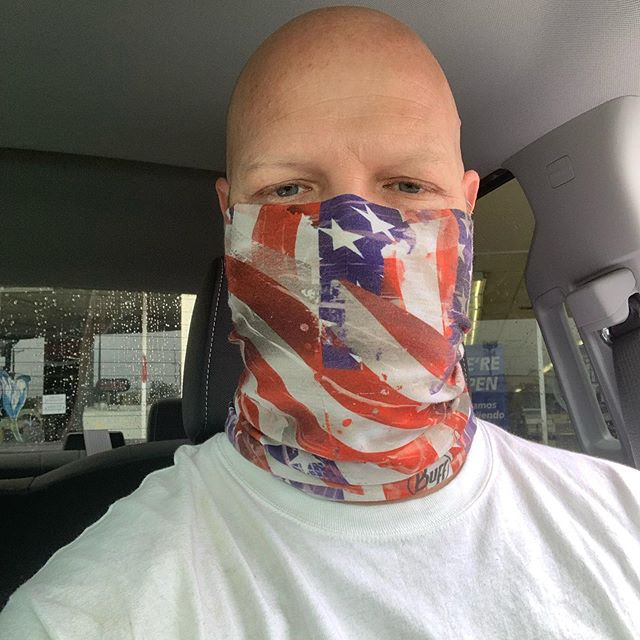homemade: (206, 198, 482, 490)
